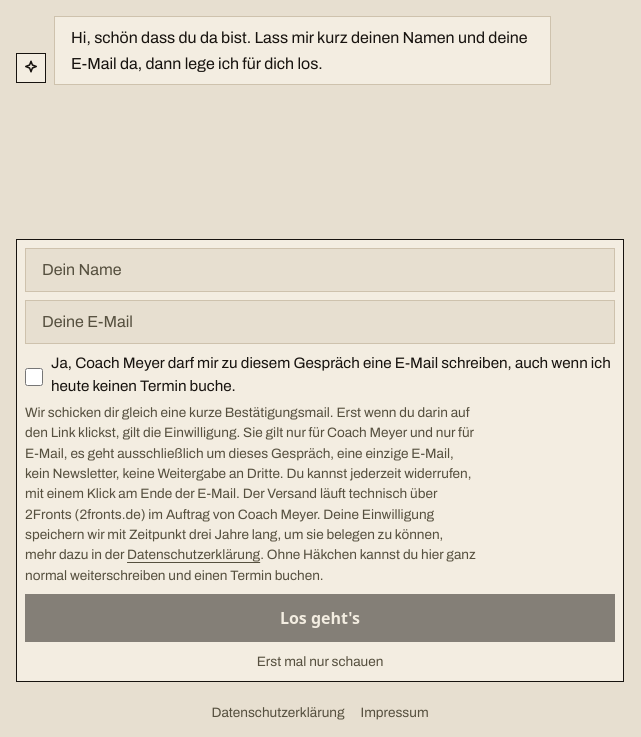
it: ConciergePublicPage › sends a message and renders the AI reply
Expected: the checkbox is shown, left=25, top=355, right=43, bottom=399
Type "Max" into the field with placeholder "Dein Name".
click(320, 270); type("Max")  # box left=25, top=248, right=615, bottom=292
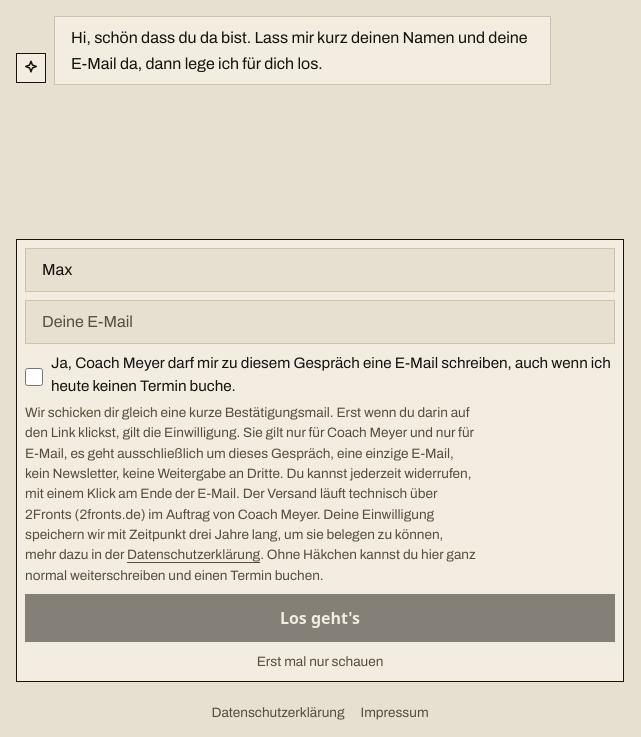
Type "max@example.com" into the field with placeholder "Deine E-Mail".
click(320, 322); type("max@example.com")  # box left=25, top=300, right=615, bottom=344
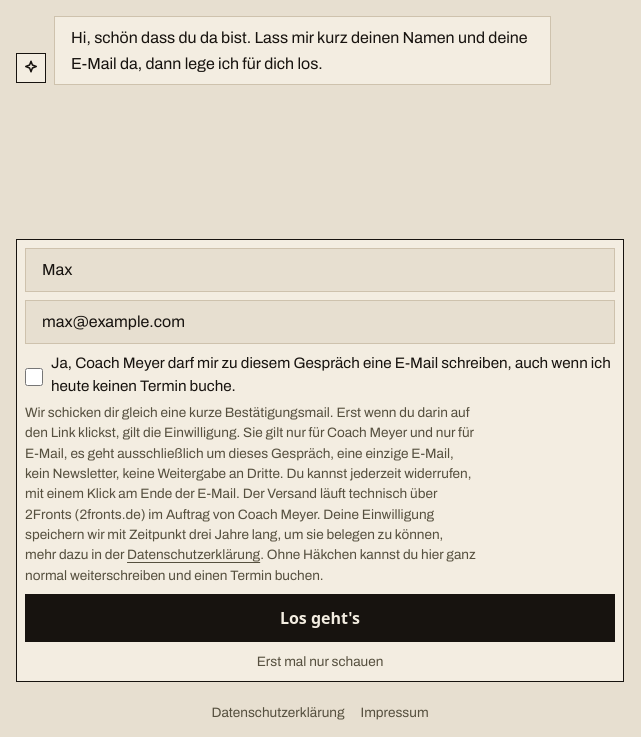
Expected: the button "Los geht's" is enabled
Click the button "Los geht's".
click(320, 618)  # box left=25, top=594, right=615, bottom=642
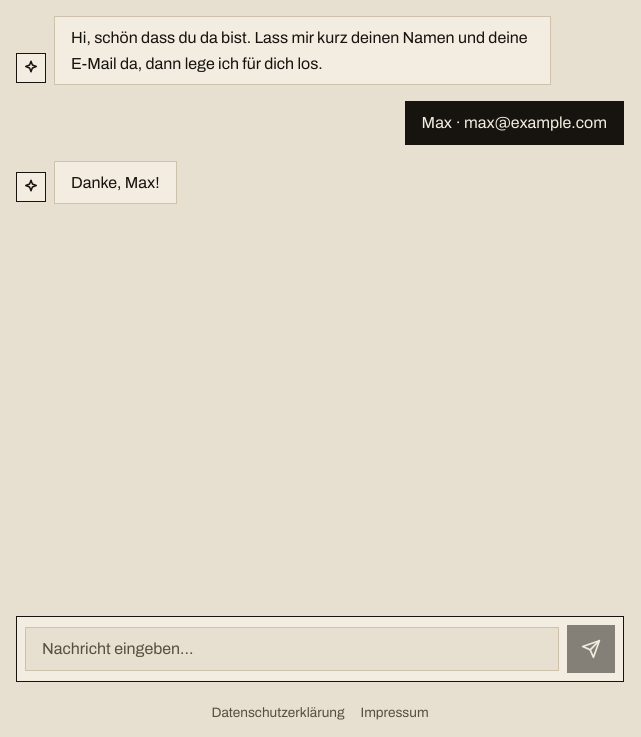
Expected: the field with placeholder "Nachricht eingeben…" is shown
Type "Wie lange?" into the field with placeholder "Nachricht eingeben…".
click(292, 649); type("Wie lange?")  # box left=25, top=627, right=559, bottom=671
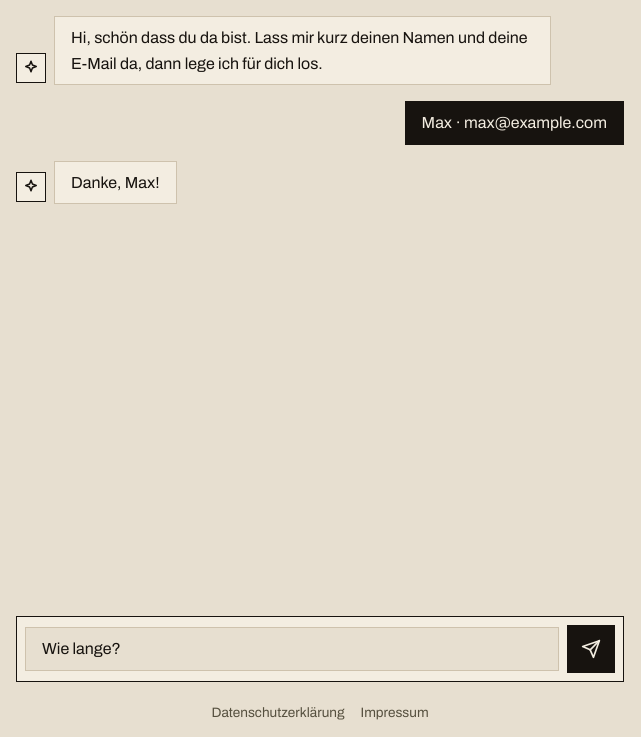
Click the button named "Senden".
click(591, 649)  # box left=567, top=625, right=615, bottom=673
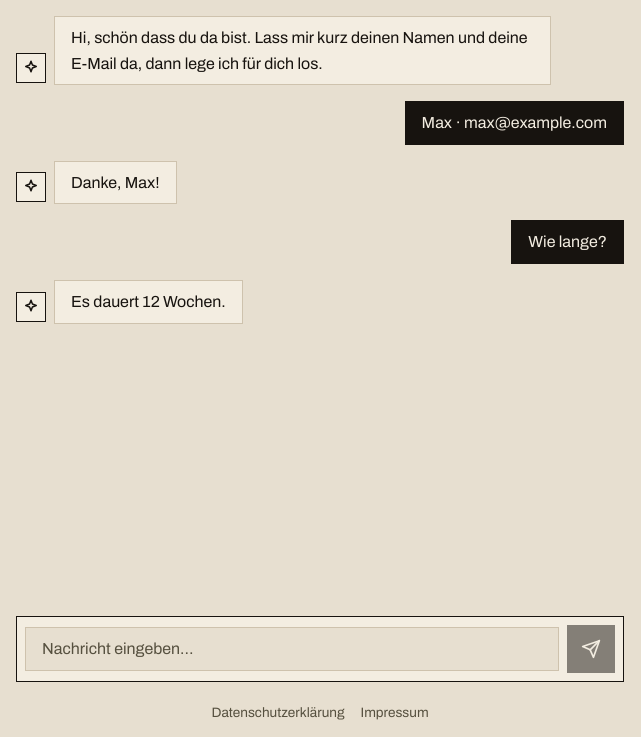
Expected: the text "Wie lange?" is shown, left=511, top=220, right=624, bottom=264
Expected: the text "Es dauert 12 Wochen." is shown, left=54, top=280, right=243, bottom=324
